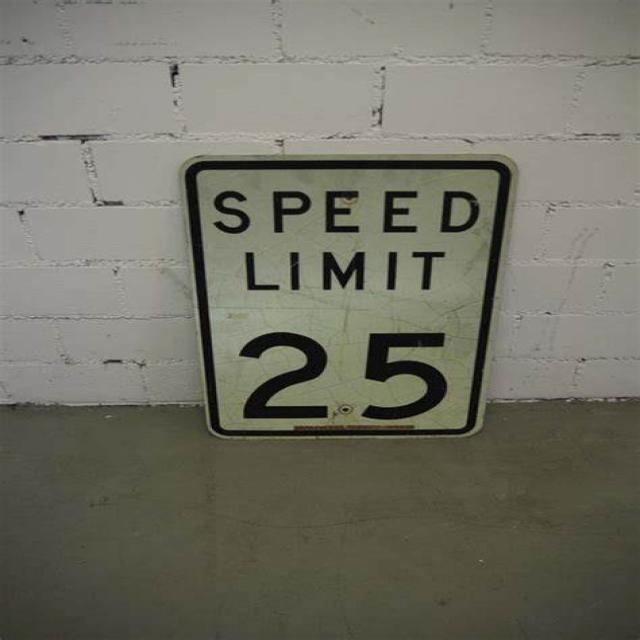speedLimit25: (179, 154, 520, 443)
